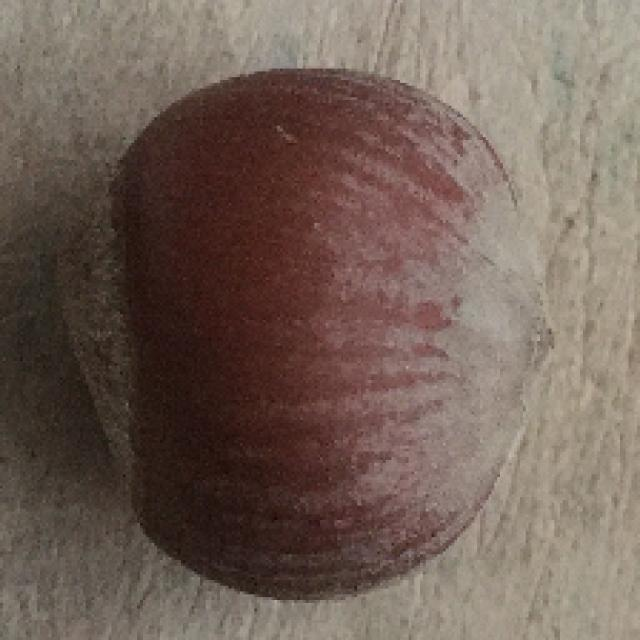QualityHazelnut: (68, 69, 549, 600)
